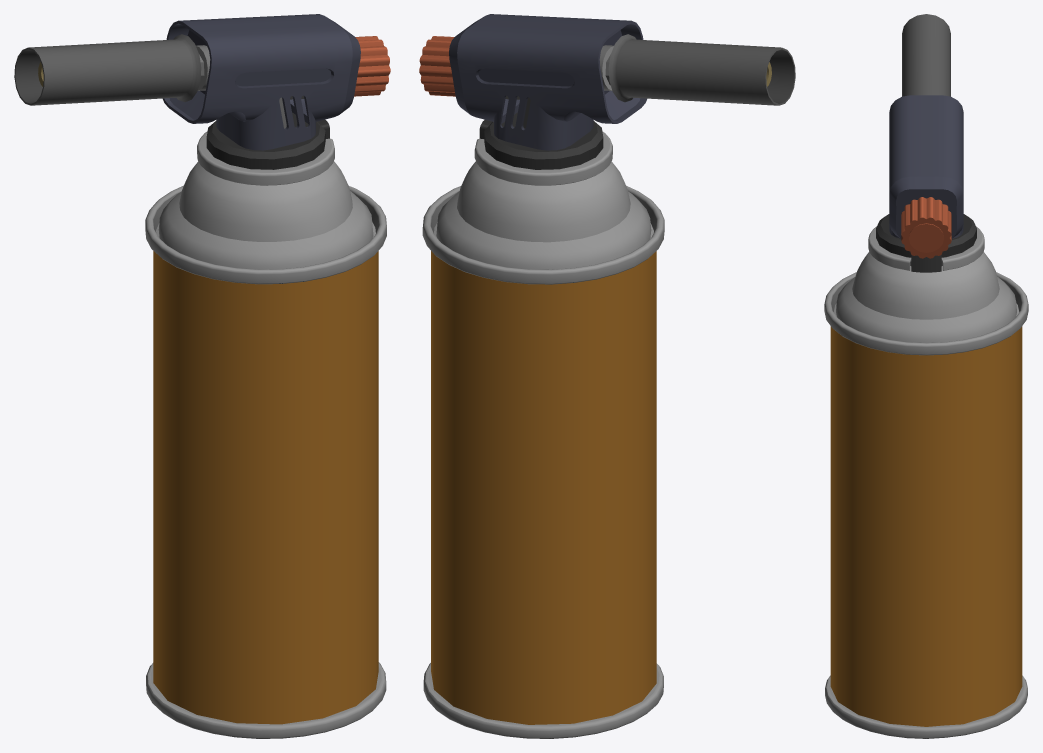
3 views of the same model, side by side, from view 1: azimuth 30°, elevation 25°; view 2: azimuth 150°, elevation 25°; view 3: azimuth 270°, elevation 25° (orthographic). The views are drawn at different scales.
Parts seen in each view (by area): view 1: Ballon_01, Ballon_03, Burner_Tip_Base_01, Burner_Tip_01, Ballon_02, Ballon_04, Ballon_05, Button_01; view 2: Ballon_01, Ballon_03, Burner_Tip_Base_01, Burner_Tip_01, Ballon_02, Ballon_04, Ballon_05, Button_01; view 3: Ballon_01, Ballon_03, Burner_Tip_Base_01, Burner_Tip_01, Ballon_02, Button_01, Ballon_05, Ballon_04, Button_02, Ballon_06.
Part boxes in pixels (bbox=[...]): Ballon_01: bbox=[153, 251, 378, 724]; Ballon_03: bbox=[145, 161, 386, 284]; Burner_Tip_Base_01: bbox=[163, 14, 360, 150]; Burner_Tip_01: bbox=[14, 34, 201, 105]; Ballon_02: bbox=[146, 662, 386, 738]; Ballon_04: bbox=[206, 112, 325, 169]; Ballon_05: bbox=[197, 131, 334, 185]; Button_01: bbox=[354, 36, 390, 96]; Ballon_01: bbox=[431, 251, 656, 724]; Ballon_03: bbox=[422, 161, 664, 284]; Burner_Tip_Base_01: bbox=[449, 14, 646, 150]; Burner_Tip_01: bbox=[608, 34, 795, 105]; Ballon_02: bbox=[423, 663, 663, 738]; Ballon_04: bbox=[484, 112, 603, 169]; Ballon_05: bbox=[474, 131, 612, 185]; Button_01: bbox=[419, 36, 455, 96]; Ballon_01: bbox=[830, 326, 1022, 726]; Ballon_03: bbox=[824, 252, 1028, 355]; Burner_Tip_Base_01: bbox=[889, 95, 963, 238]; Burner_Tip_01: bbox=[902, 14, 950, 96]; Ballon_02: bbox=[825, 675, 1027, 738]; Button_01: bbox=[901, 197, 951, 258]; Ballon_05: bbox=[868, 226, 984, 270]; Ballon_04: bbox=[876, 214, 976, 257]; Button_02: bbox=[908, 223, 944, 252]; Ballon_06: bbox=[911, 255, 941, 272].
Size of the model in its own units: 0.0431 by 0.0809 by 0.0255.
